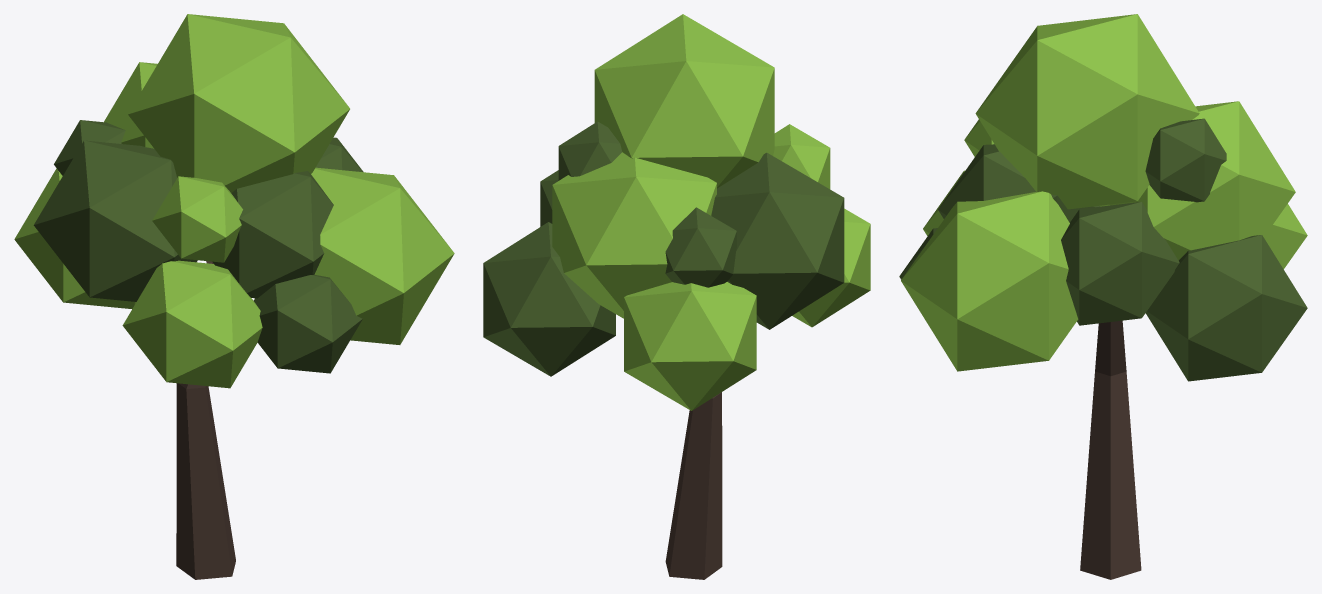
Rendered from tree2.fbx.
3 views of the same model, side by side, from view 1: azimuth 30°, elevation 25°; view 2: azimuth 150°, elevation 25°; view 3: azimuth 270°, elevation 25° (orthographic). The views are drawn at different scales.
Visible parts, largest first — view 1: polySurface26; view 2: polySurface26; view 3: polySurface26.
Boxes of the visible parts, box(x1,y1,x2,y2) form: polySurface26: box(14, 14, 454, 579); polySurface26: box(483, 14, 870, 579); polySurface26: box(899, 14, 1307, 579).
Bounding box in the file's own units: 18.12 × 29.21 × 19.72.
